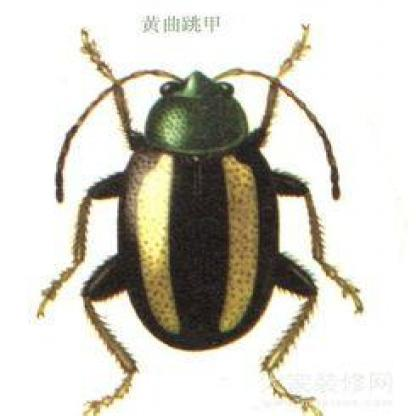beetle: (51, 20, 367, 416)
